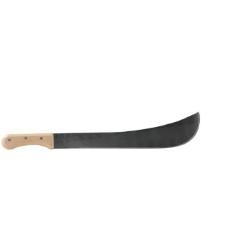MACHETTE: (0, 105, 208, 155)
